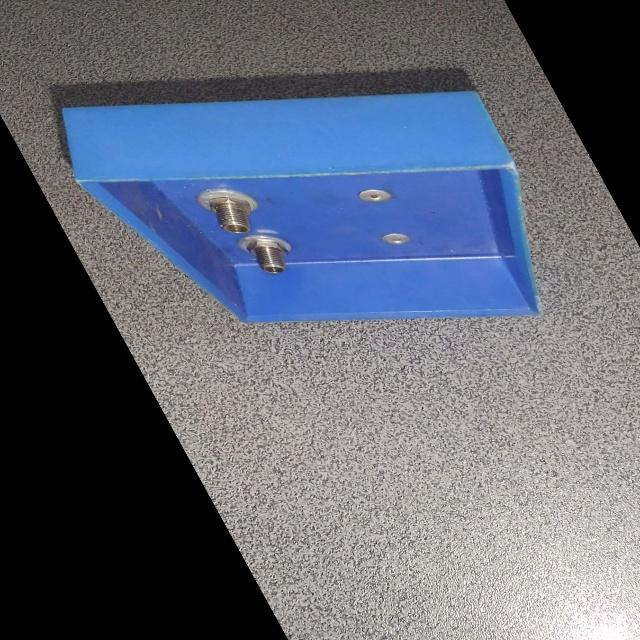L Switch: (6, 55, 630, 354)
